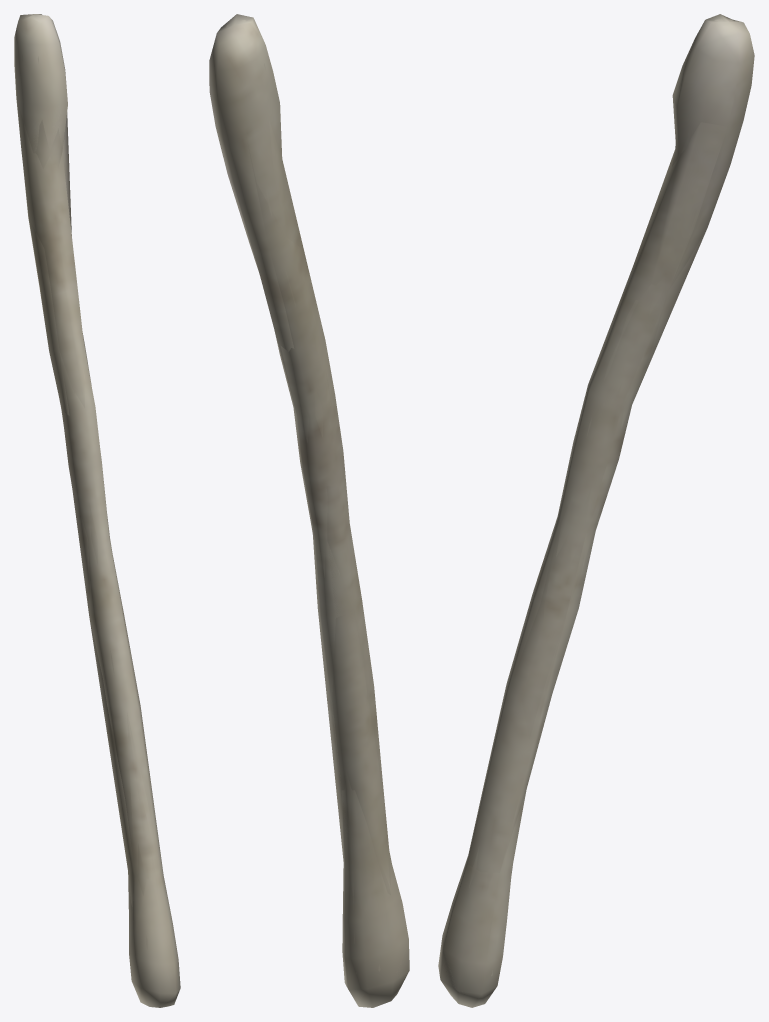
Rendered from L metatarsi secundum.fbx.
3 views of the same model, side by side, from view 1: azimuth 30°, elevation 25°; view 2: azimuth 150°, elevation 25°; view 3: azimuth 270°, elevation 25° (orthographic). The views are drawn at different scales.
Parts seen in each view (by area): view 1: L metatarsi secundum, L metatarsi secundum low, L metatarsi secundum high; view 2: L metatarsi secundum, L metatarsi secundum low, L metatarsi secundum high; view 3: L metatarsi secundum, L metatarsi secundum low, L metatarsi secundum high.
Boxes of the visible parts, bbox=[...] form: L metatarsi secundum: bbox=[14, 14, 180, 1007]; L metatarsi secundum low: bbox=[17, 15, 179, 1006]; L metatarsi secundum high: bbox=[22, 16, 165, 977]; L metatarsi secundum: bbox=[209, 14, 409, 1007]; L metatarsi secundum low: bbox=[219, 18, 409, 1004]; L metatarsi secundum high: bbox=[225, 19, 392, 973]; L metatarsi secundum: bbox=[438, 14, 754, 1007]; L metatarsi secundum low: bbox=[439, 14, 747, 1002]; L metatarsi secundum high: bbox=[447, 19, 740, 976].
Size of the model in its own units: 0.3113 by 5.37 by 1.57.
Materials: 1 (1 with a texture image).
